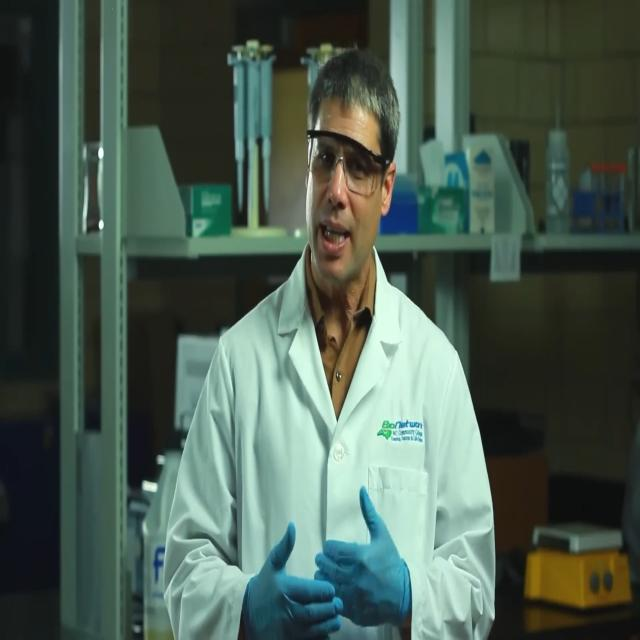googles: (303, 120, 393, 202)
labcoat: (160, 235, 498, 640)
